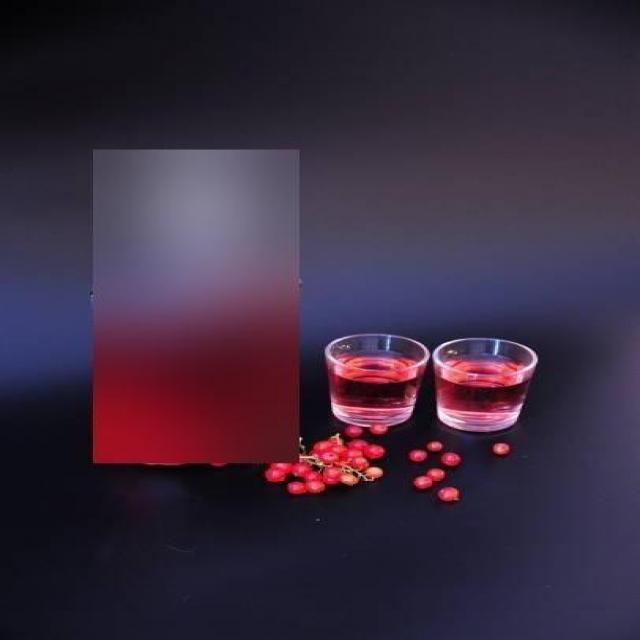glass-normal: (430, 337, 539, 434), (323, 332, 429, 428)
